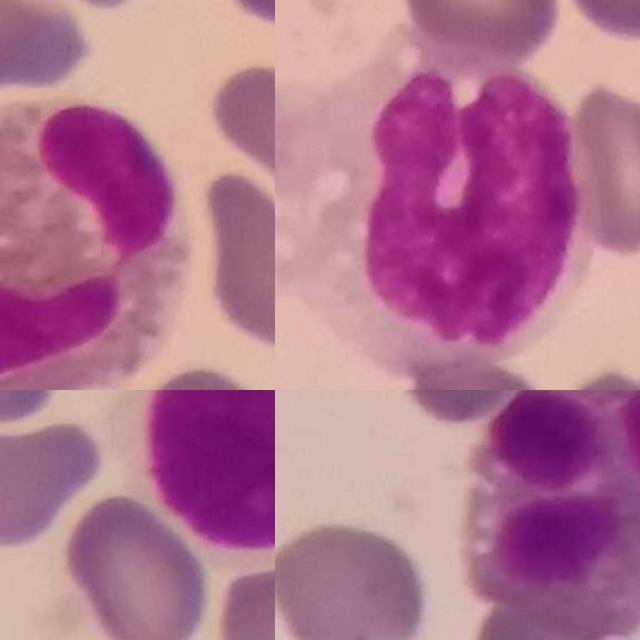Eosinophil: (0, 102, 190, 390), (470, 390, 640, 640)
Lymphocyte: (124, 390, 275, 569)
Monocyte: (284, 57, 579, 354)
